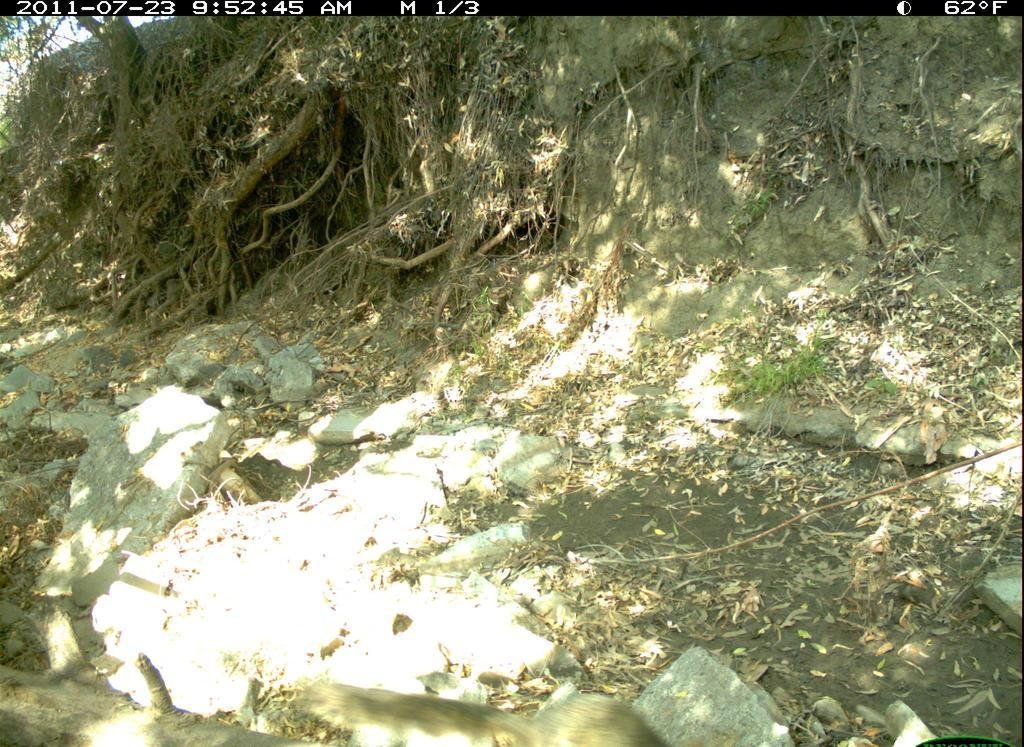squirrel: (281, 664, 716, 747)
